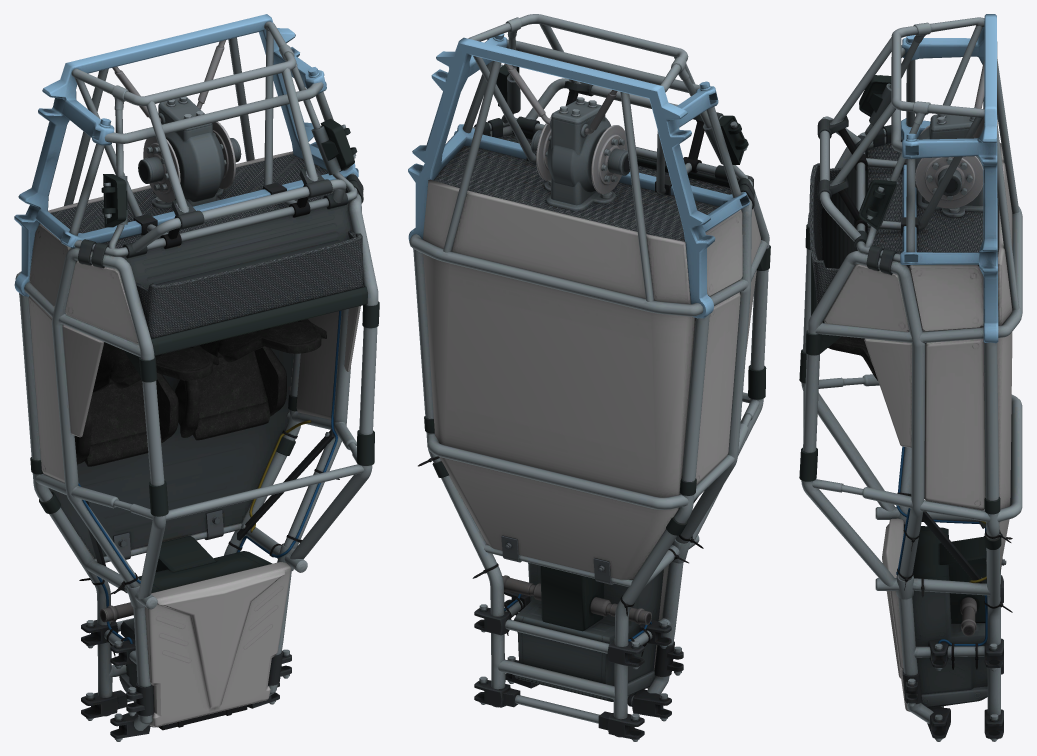
File: Body.obj
The picture shows the model from 3 angles, left to right: view 1: azimuth 30°, elevation 25°; view 2: azimuth 150°, elevation 25°; view 3: azimuth 270°, elevation 25°; orthographic projection. The views are drawn at different scales.
Visible parts, largest first — view 1: SM_Offroad_Body; view 2: SM_Offroad_Body; view 3: SM_Offroad_Body.
Boxes of the visible parts, x1,y1,x2,y2 form: SM_Offroad_Body: [14, 14, 379, 741]; SM_Offroad_Body: [408, 14, 770, 741]; SM_Offroad_Body: [799, 14, 1022, 741].
Bounding box in the file's own units: 1.79 × 3.7 × 1.16.
4 materials, 3 textured.
